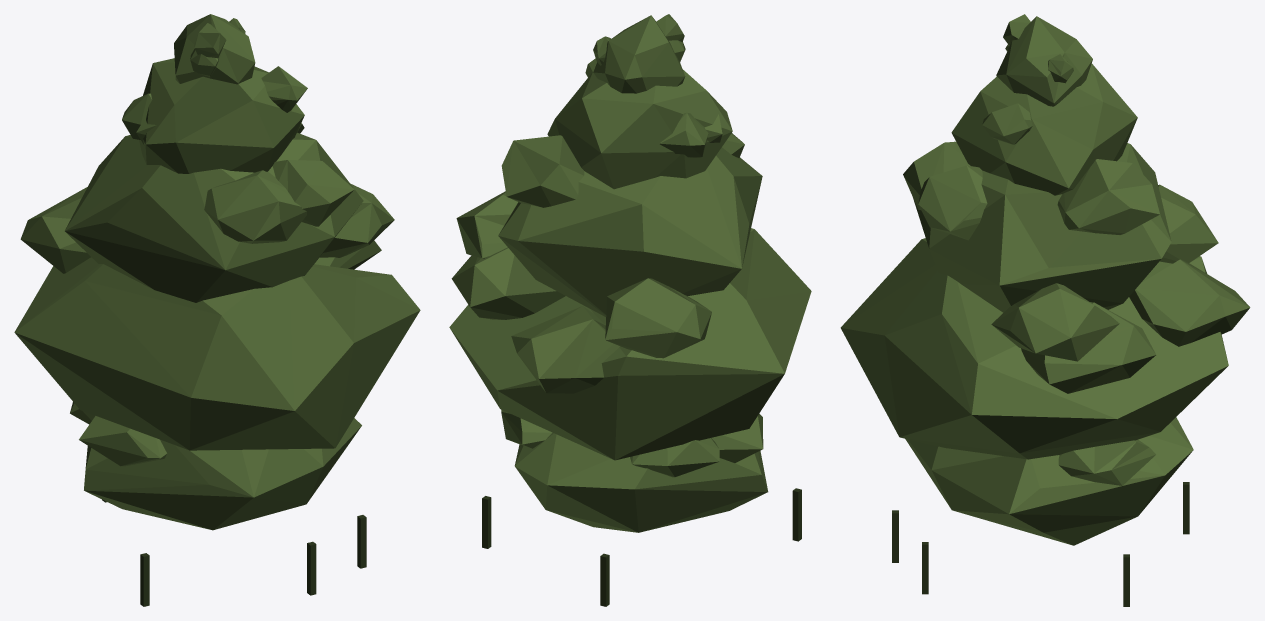
File: Leaves_A.glb
3 views of the same model, side by side, from view 1: azimuth 30°, elevation 25°; view 2: azimuth 150°, elevation 25°; view 3: azimuth 270°, elevation 25° (orthographic).
Visible parts, largest first — view 1: Leaves; view 2: Leaves; view 3: Leaves.
Part boxes in pixels (<box>): Leaves: <box>14,14,420,606</box>; Leaves: <box>449,14,811,606</box>; Leaves: <box>840,14,1250,606</box>.
Size of the model in its own units: 10.74 by 15.7 by 10.99.
